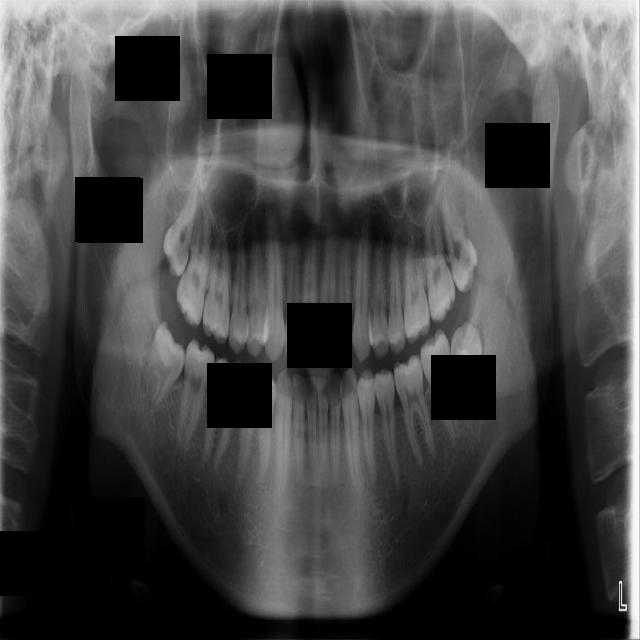3M ESPE Implant: (158, 176, 201, 278)
73: (580, 515, 586, 526)
BioHorizons Implant: (420, 202, 459, 326)
BioLife Implant: (437, 181, 485, 297)
Biomet 3i Implant: (449, 321, 482, 404)
Blue Sky Bio Implant: (417, 328, 462, 442)
Caries: (172, 194, 219, 329)
Implant: (175, 337, 218, 448)
Keystone Dental Implant: (135, 319, 195, 411)
